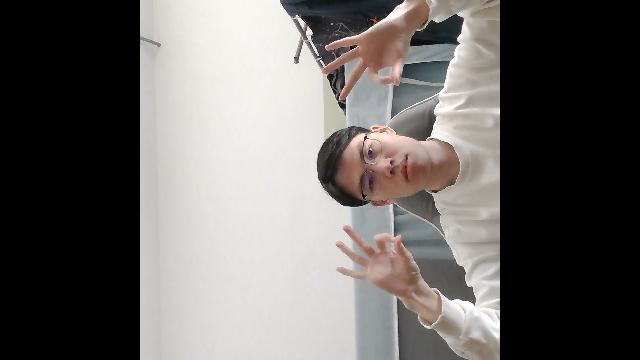ok: (320, 6, 414, 102), (334, 224, 426, 307)
